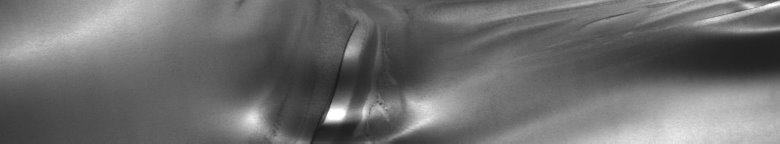ke: (319, 23, 423, 136)
